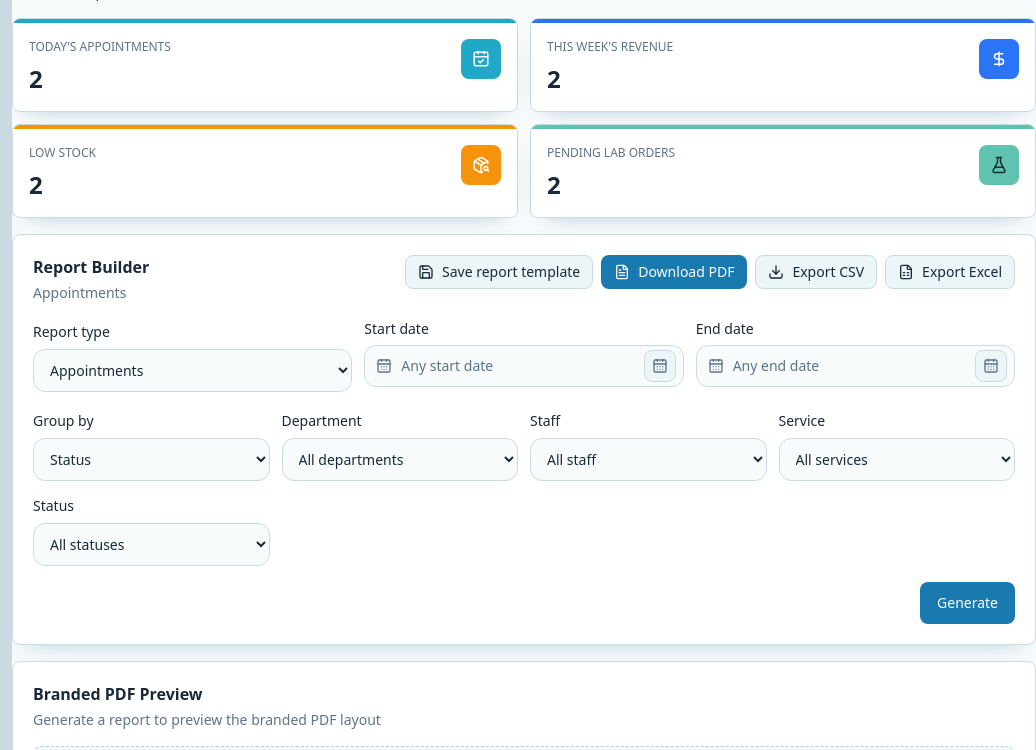
ReportBuilderPage › generates a report with backend filters and renders dynamic results
Select "Department" in the dropdown labelled "Group by": (151, 460) [33, 438, 270, 481]
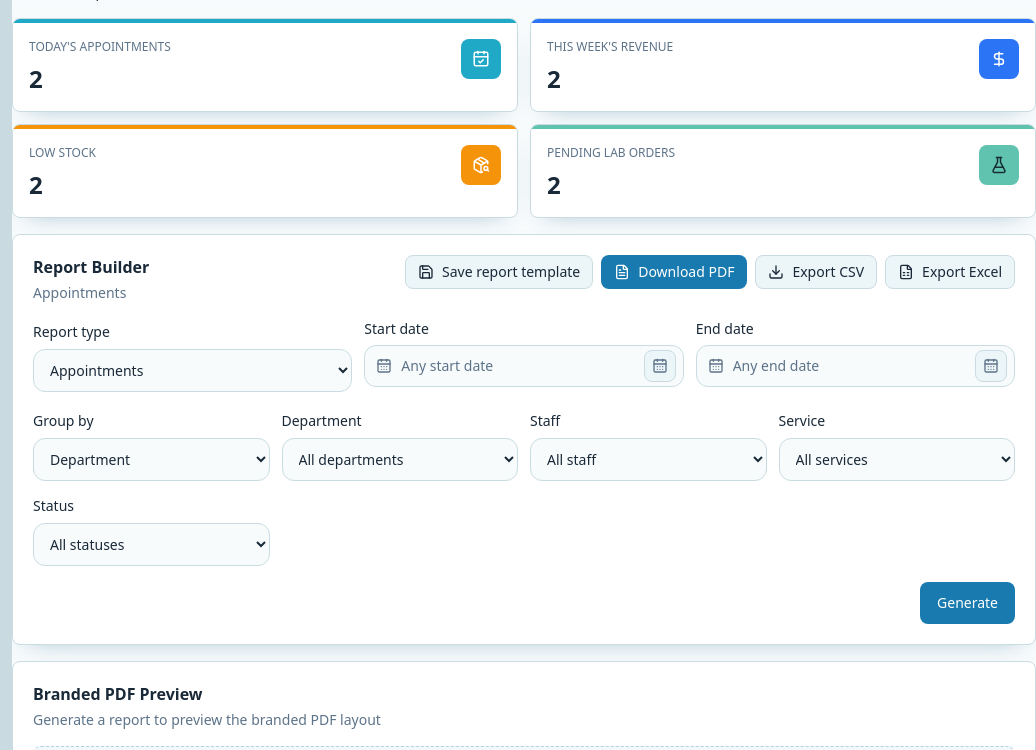
Select "Cardiology" in the dropdown labelled "Department": (400, 460) [282, 438, 518, 481]
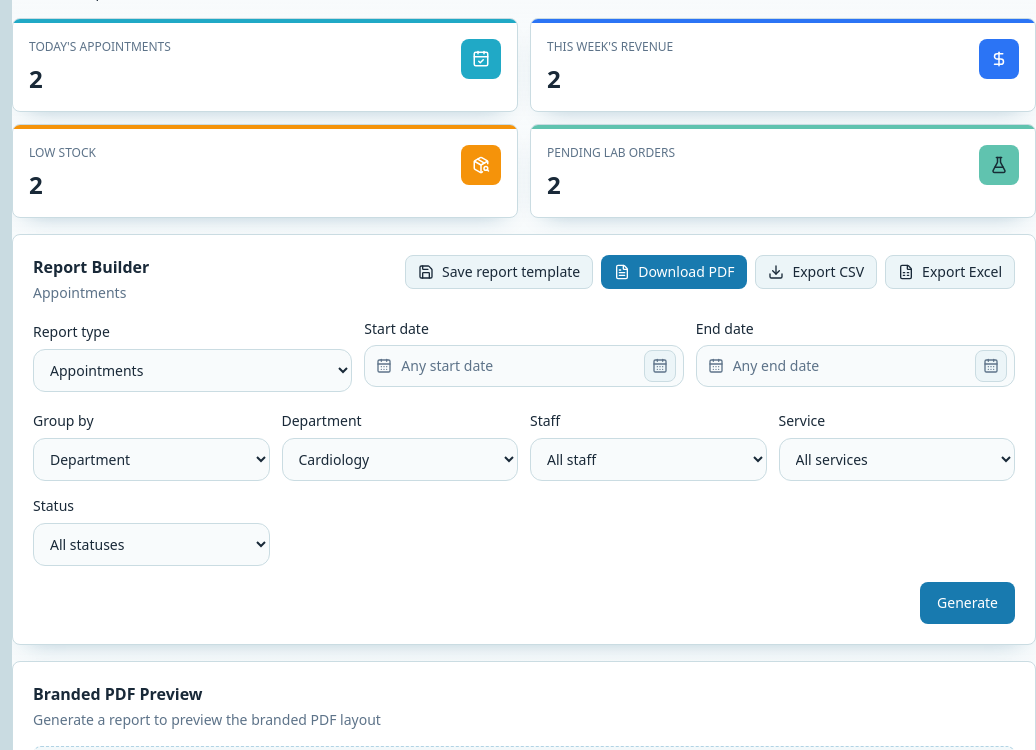
Select "COMPLETED" in the dropdown labelled "Status": (151, 544) [33, 523, 270, 566]
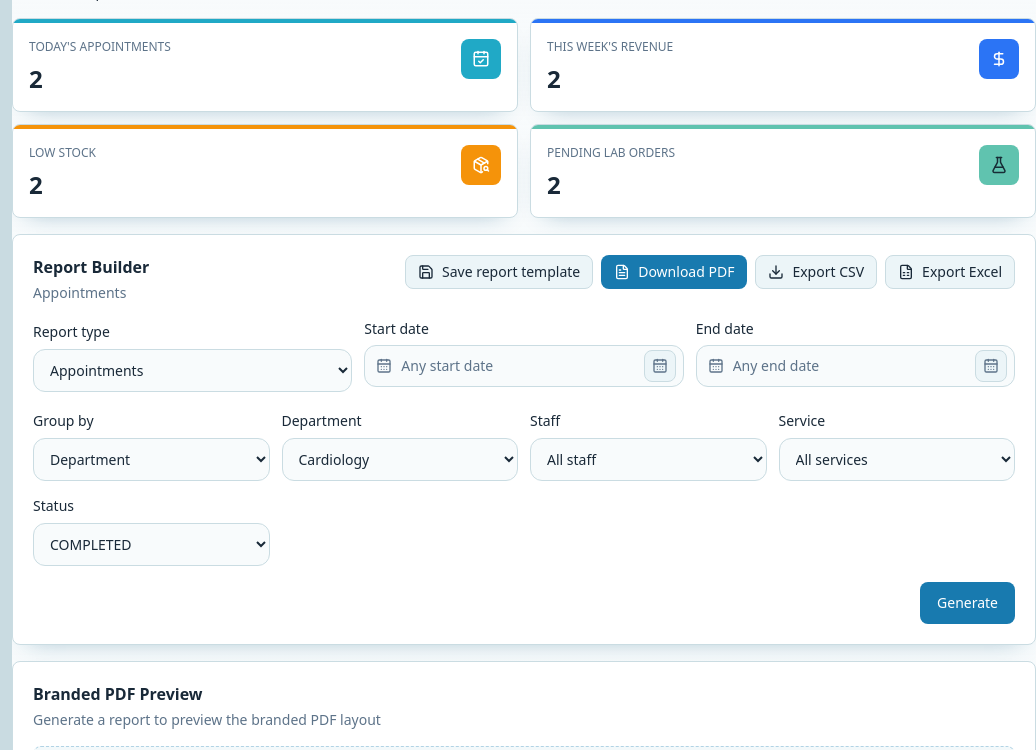
Click the button "Generate": (968, 603) [920, 582, 1015, 624]
(page scrolled)
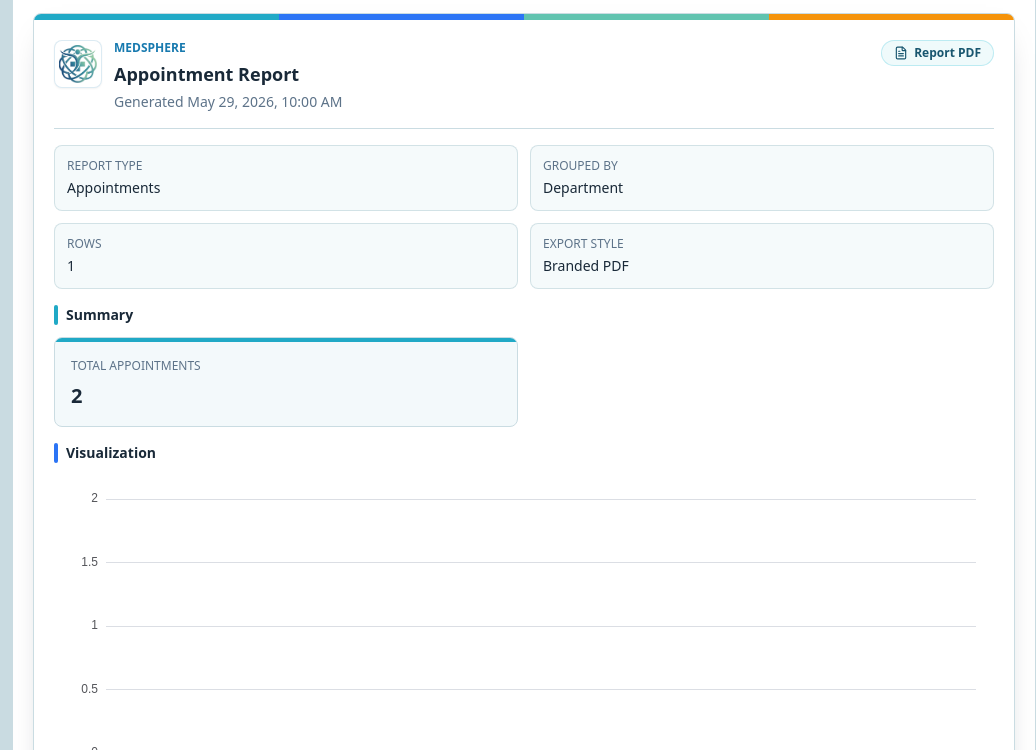
Expected: the heading "Appointment Report" is shown, [114, 62, 299, 86]
Expected: the text "Total appointments" is shown, [71, 357, 201, 374]
